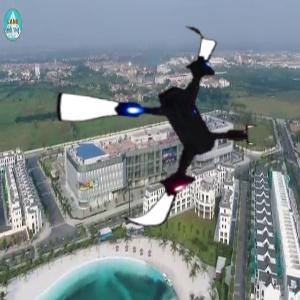drone: (50, 20, 264, 234)
